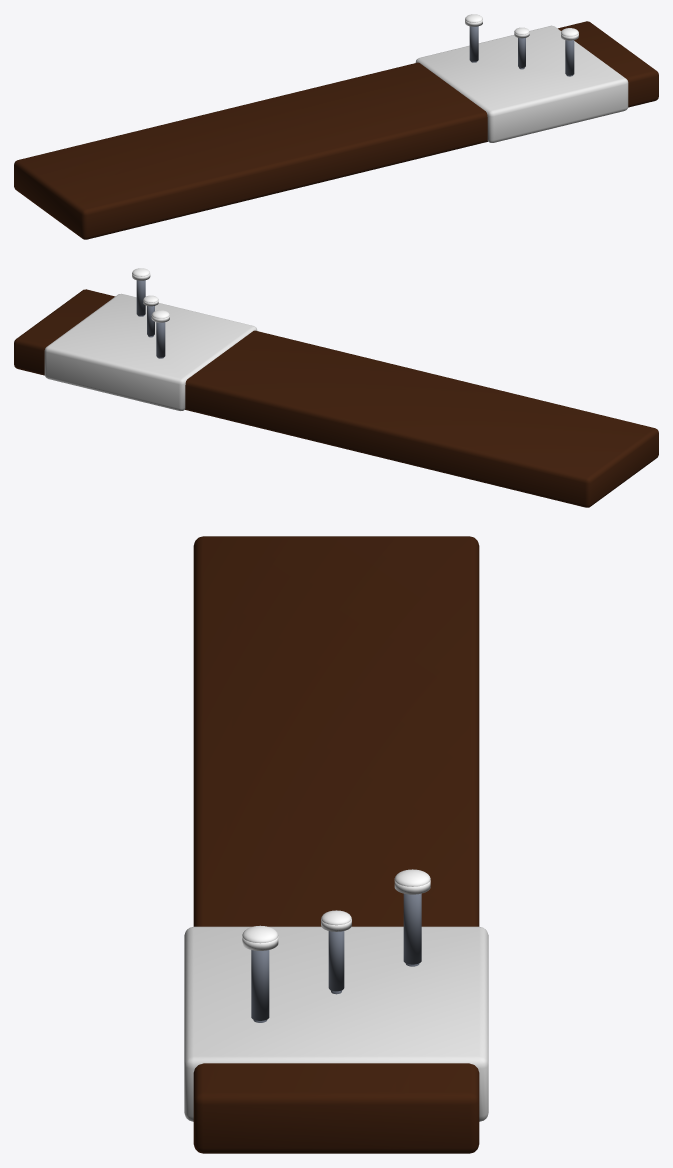
File: nailed-plank-joint.obj
3 renders of one model, top to bottom at view 1: azimuth 30°, elevation 25°; view 2: azimuth 150°, elevation 25°; view 3: azimuth 270°, elevation 25°, orthographic. The views are drawn at different scales.
Visible parts, largest first — view 1: nailed-plank-joint; view 2: nailed-plank-joint; view 3: nailed-plank-joint.
Boxes of the visible parts, left/top/right/bottom form: nailed-plank-joint: left=14, top=14, right=658, bottom=239; nailed-plank-joint: left=14, top=268, right=658, bottom=507; nailed-plank-joint: left=184, top=536, right=488, bottom=1153.
Bounding box in the file's own units: 1.4 × 0.1802 × 0.32.
